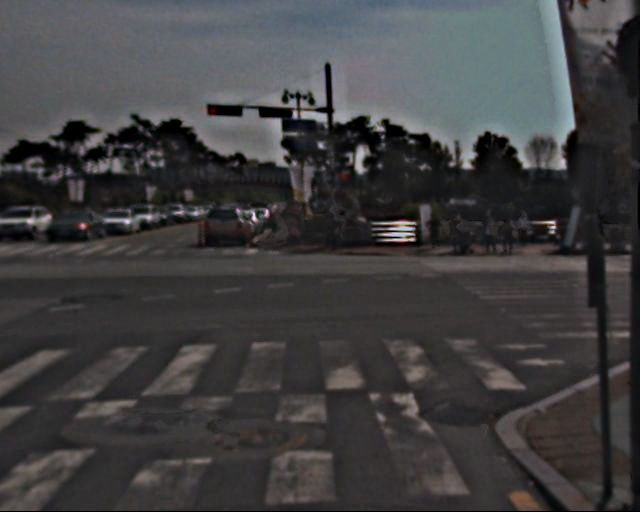person: (267, 202, 311, 242), (324, 204, 343, 251), (483, 213, 501, 258), (503, 215, 521, 258), (451, 208, 469, 251), (519, 210, 535, 249), (428, 211, 444, 250)
